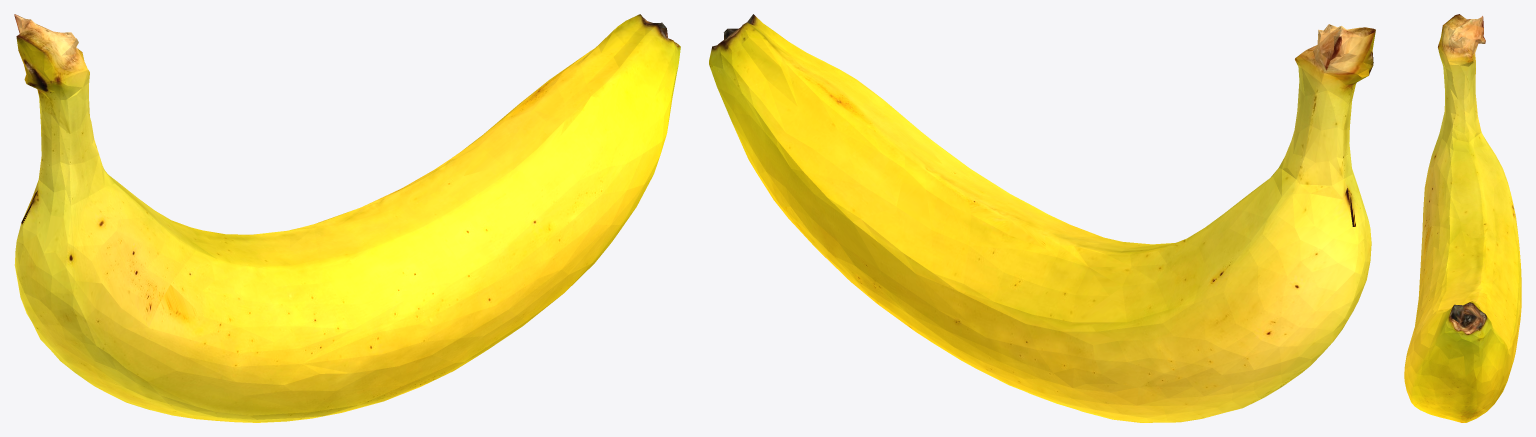
File: banana-v1.glb
3 views of the same model, side by side, from view 1: azimuth 30°, elevation 25°; view 2: azimuth 150°, elevation 25°; view 3: azimuth 270°, elevation 25° (orthographic). The views are drawn at different scales.
Parts seen in each view (by area): view 1: banana; view 2: banana; view 3: banana.
Boxes of the visible parts, <box> form: banana: <box>14,14,680,422</box>; banana: <box>709,14,1375,422</box>; banana: <box>1404,14,1521,422</box>.
Size of the model in its own units: 6.79 by 4.44 by 1.61.
Materials: 1 (1 with a texture image).
